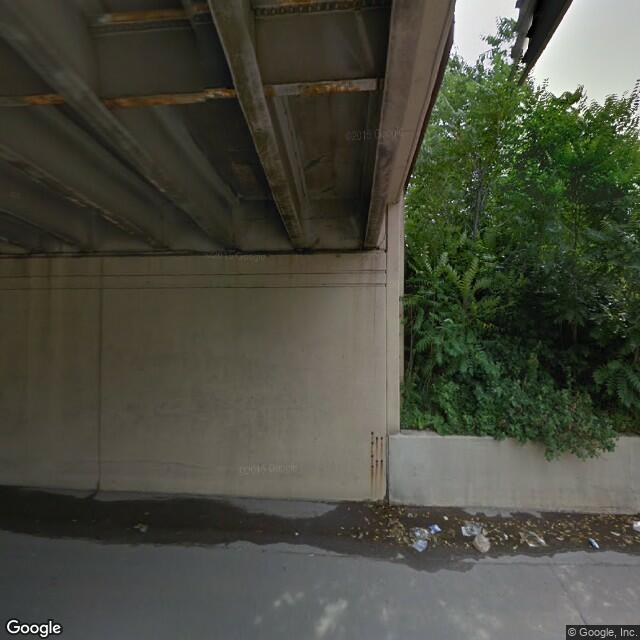litter: (459, 521, 492, 552), (405, 523, 430, 554), (517, 530, 547, 552), (586, 538, 599, 552), (134, 521, 145, 531), (433, 522, 441, 534), (632, 516, 640, 528), (609, 527, 617, 537)
